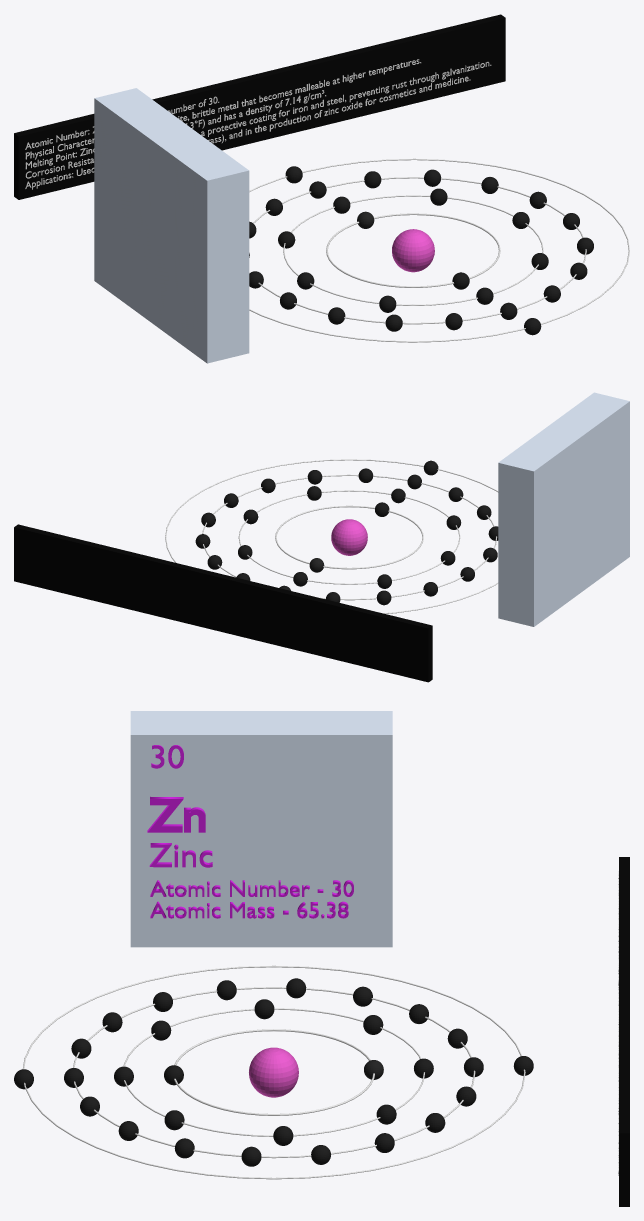
Rendered from Zinc.fbx.
The picture shows the model from 3 angles, top to bottom: view 1: azimuth 30°, elevation 25°; view 2: azimuth 150°, elevation 25°; view 3: azimuth 270°, elevation 25°; orthographic projection. The views are drawn at different scales.
Parts seen in each view (by area): view 1: Cube, Cube.001, Text.003, BézierCircle.003, Sphere.003, BézierCircle.002, BézierCircle.001, BézierCircle; view 2: Cube.001, Cube, Sphere.003, BézierCircle.003, BézierCircle.001, BézierCircle.002, BézierCircle; view 3: Cube, Cube.001, Text.002, BézierCircle.003, Sphere.003, BézierCircle.002, Text, BézierCircle.001, BézierCircle, Text.001.
Boxes of the visible parts, x1,y1,x2,y2 form: Cube: [94, 88, 249, 363]; Cube.001: [14, 14, 505, 199]; Text.003: [25, 59, 491, 189]; BézierCircle.003: [249, 158, 629, 342]; Sphere.003: [392, 229, 434, 272]; BézierCircle.002: [249, 177, 586, 324]; BézierCircle.001: [283, 195, 543, 305]; BézierCircle: [326, 213, 500, 287]; Cube.001: [14, 524, 432, 682]; Cube: [498, 392, 629, 626]; Sphere.003: [331, 519, 367, 555]; BézierCircle.003: [165, 459, 498, 613]; BézierCircle.001: [238, 490, 460, 584]; BézierCircle.002: [202, 474, 497, 600]; BézierCircle: [275, 505, 423, 569]; Cube: [130, 711, 392, 947]; Cube.001: [619, 857, 629, 1206]; Text.002: [150, 880, 353, 918]; BézierCircle.003: [23, 965, 525, 1179]; Sphere.003: [249, 1047, 298, 1097]; BézierCircle.002: [73, 987, 475, 1158]; Text: [147, 796, 205, 832]; BézierCircle.001: [123, 1008, 424, 1136]; BézierCircle: [174, 1029, 374, 1115]; Text.001: [149, 745, 212, 867].
Bounding box in the file's own units: 1360 × 511 × 1227.
